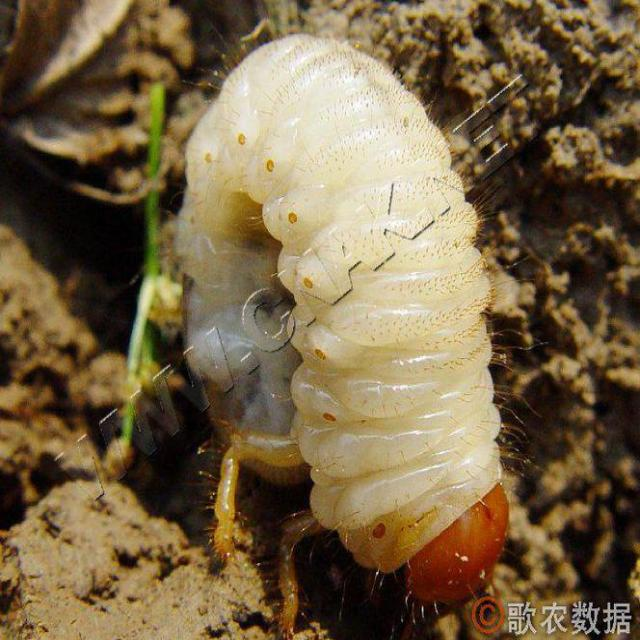Grub-Adult-: (145, 17, 526, 616)
